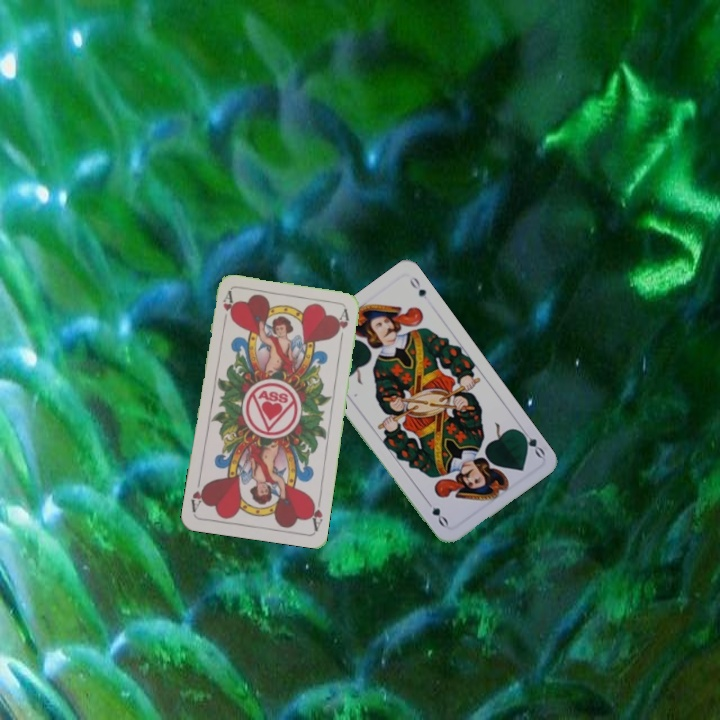GO: (515, 424, 548, 460)
HA: (306, 492, 325, 532), (219, 288, 235, 329)
